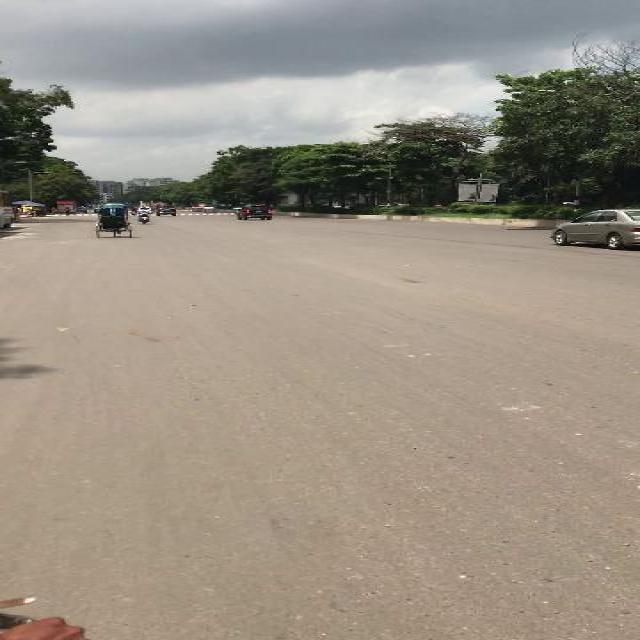car: (547, 207, 637, 251)
motorbike: (135, 206, 149, 224)
rickshaw: (92, 202, 132, 238)
suv: (234, 202, 271, 220), (156, 205, 175, 217)
